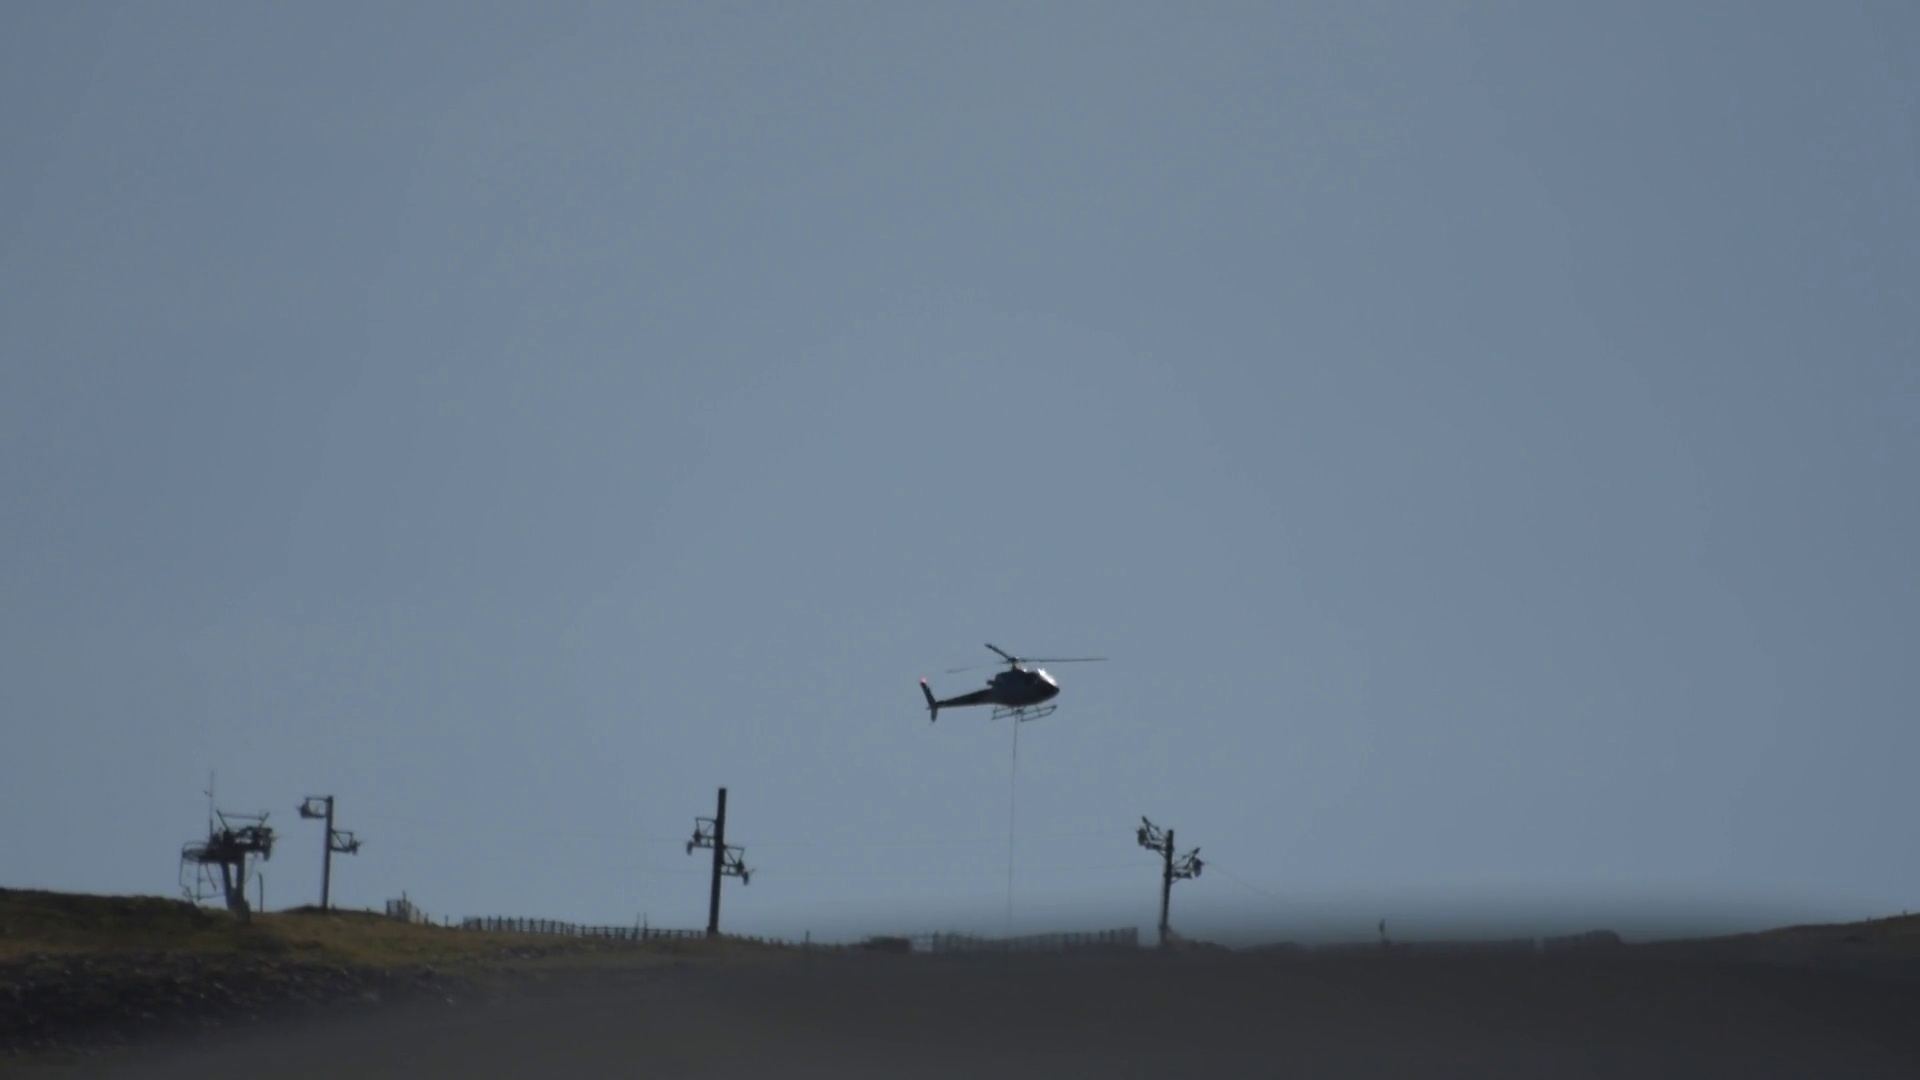heli: (915, 644, 1110, 721)
